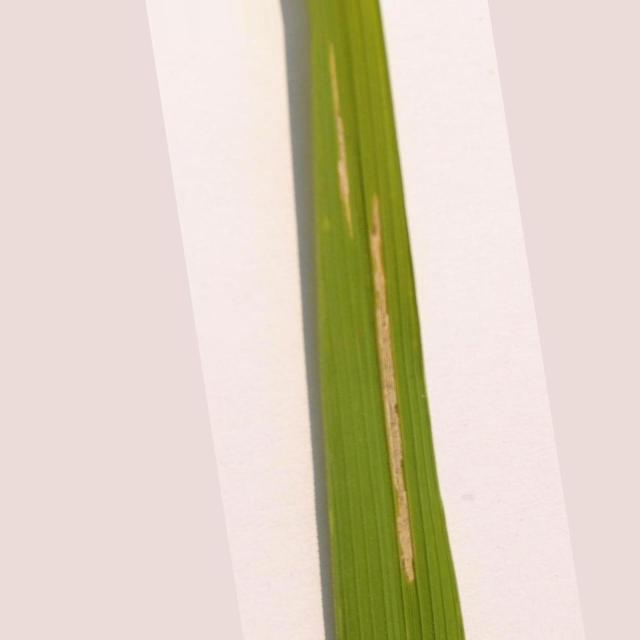Bacterial_Leaf_Blight: (369, 195, 415, 583), (329, 44, 354, 238)
